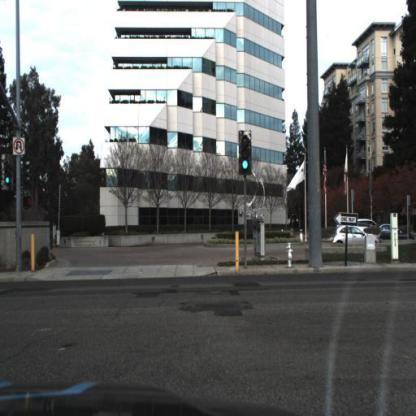car: (334, 227, 378, 245), (353, 217, 381, 241), (380, 219, 402, 242), (385, 225, 405, 244)
trafficLight-Green: (238, 133, 253, 182), (239, 133, 251, 175), (1, 168, 15, 198), (5, 163, 12, 189)
